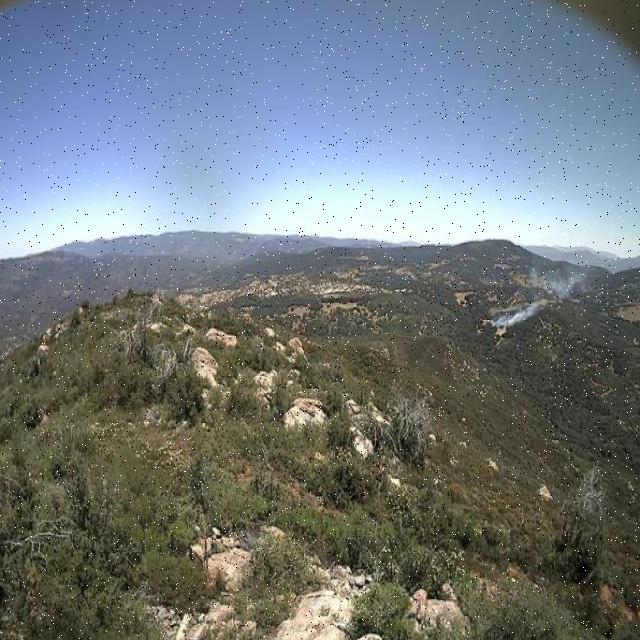smoke: (488, 265, 582, 328)
